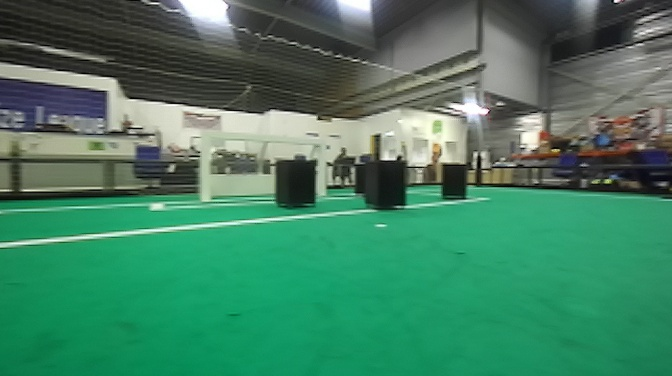goalpost: (196, 135, 211, 203), (313, 140, 325, 200)
